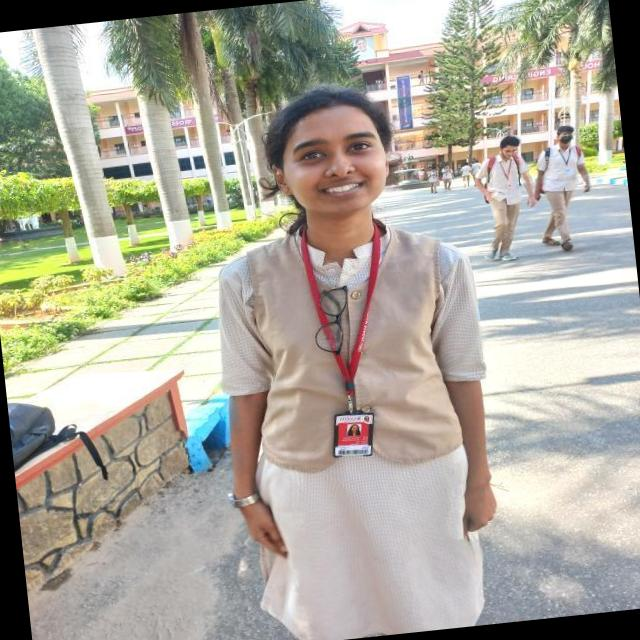id_card: (300, 223, 402, 462)
